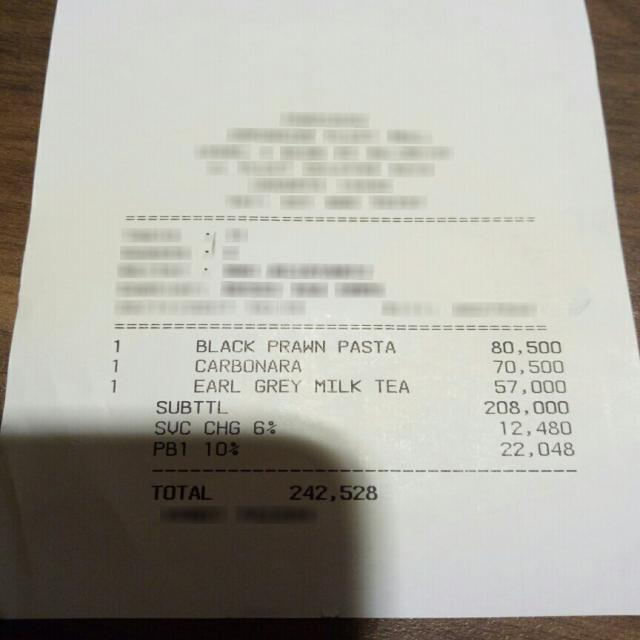kertas: (4, 0, 638, 618)
